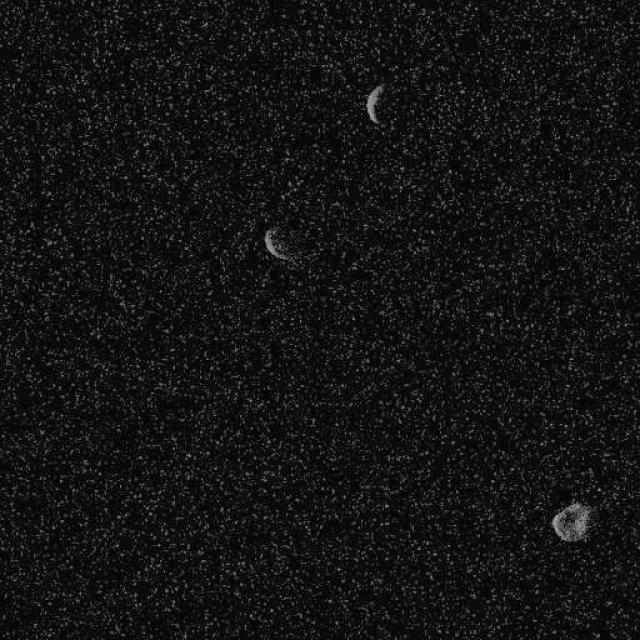D2: (550, 502, 592, 542), (262, 224, 294, 261), (364, 83, 385, 125)
